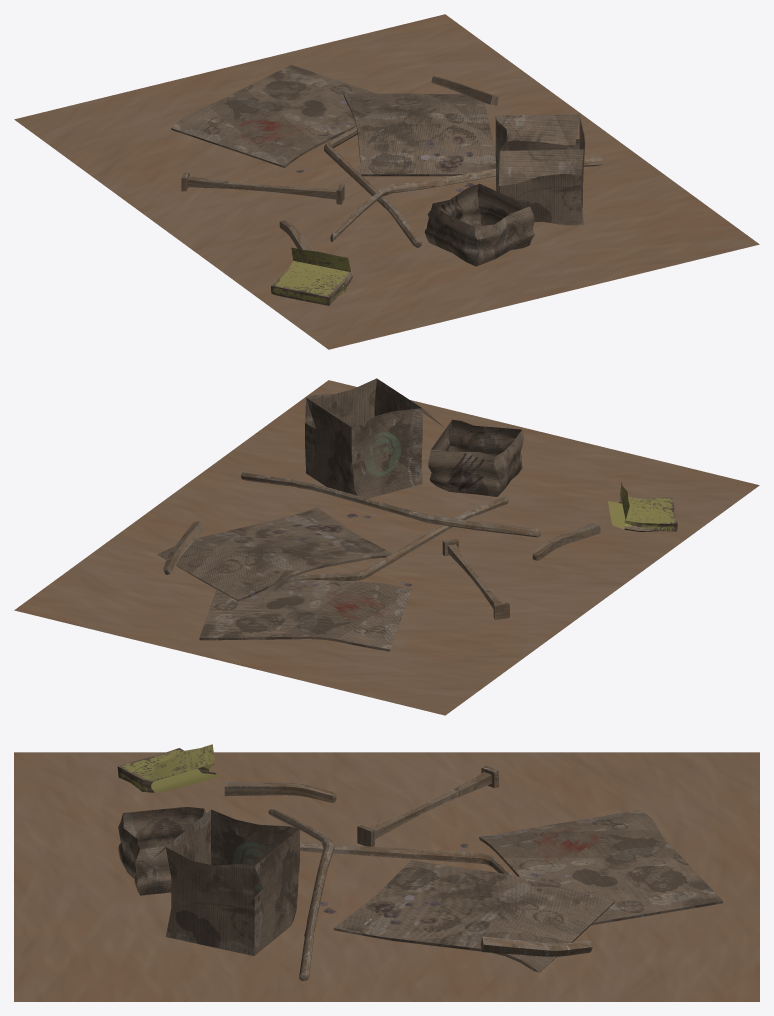
The model's file is SM_trash.fbx.
3 views of the same model, one above another, from view 1: azimuth 30°, elevation 25°; view 2: azimuth 150°, elevation 25°; view 3: azimuth 270°, elevation 25° (orthographic). The views are drawn at different scales.
Visible parts, largest first — view 1: SM_trash_LOD0; view 2: SM_trash_LOD0; view 3: SM_trash_LOD0.
Part boxes in pixels (x1,y1,x2,y2): SM_trash_LOD0: (14, 14, 759, 349); SM_trash_LOD0: (14, 378, 759, 715); SM_trash_LOD0: (14, 744, 759, 1001).
Bounding box in the file's own units: 178 × 225 × 31.06.
Materials: 1 (1 with a texture image).
